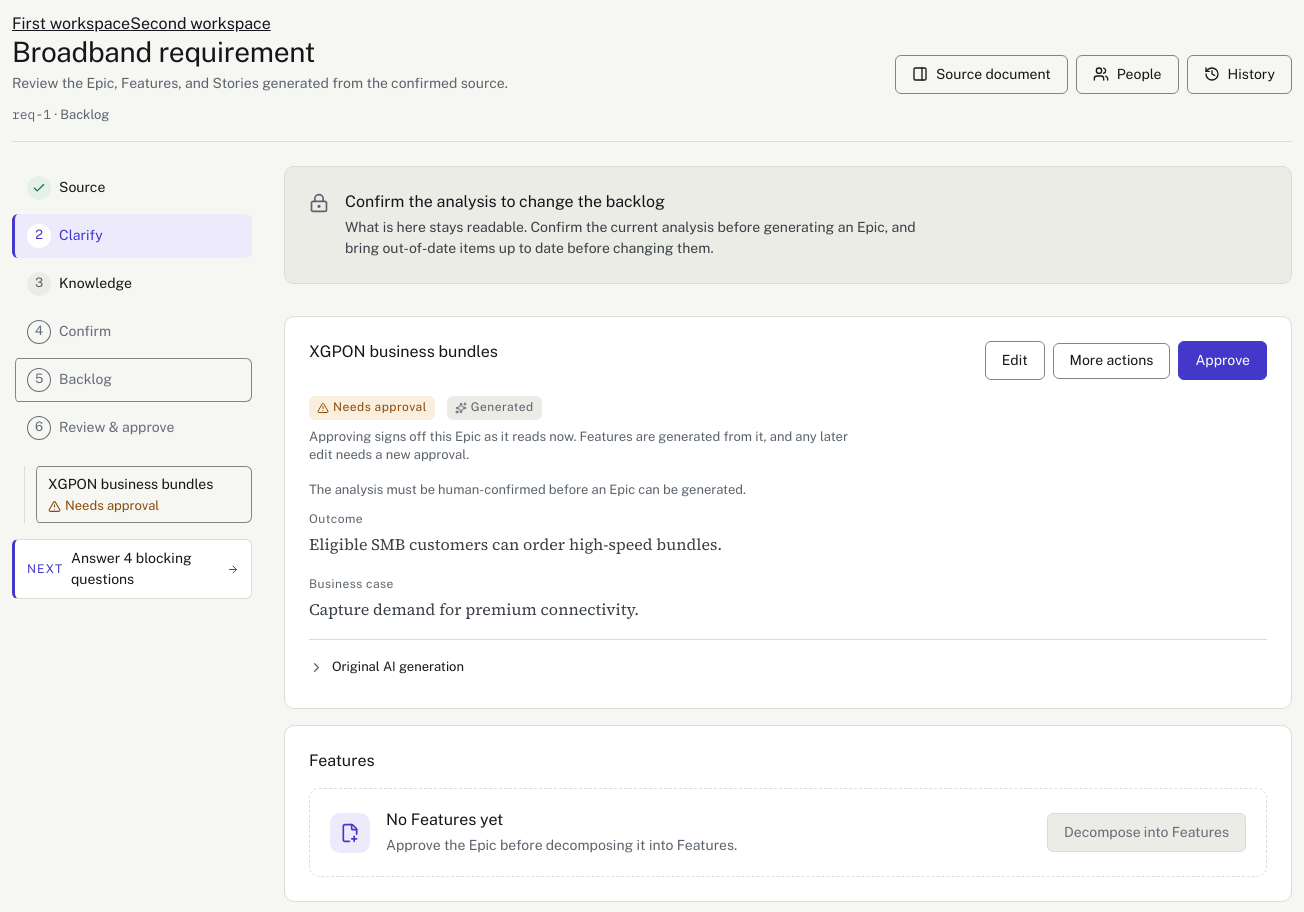
Test case: Requirement workspace reads › resets artifact drafts when changing requirements within the same app
Click the button "Edit".
click(1015, 360)  # box [985,341,1045,380]
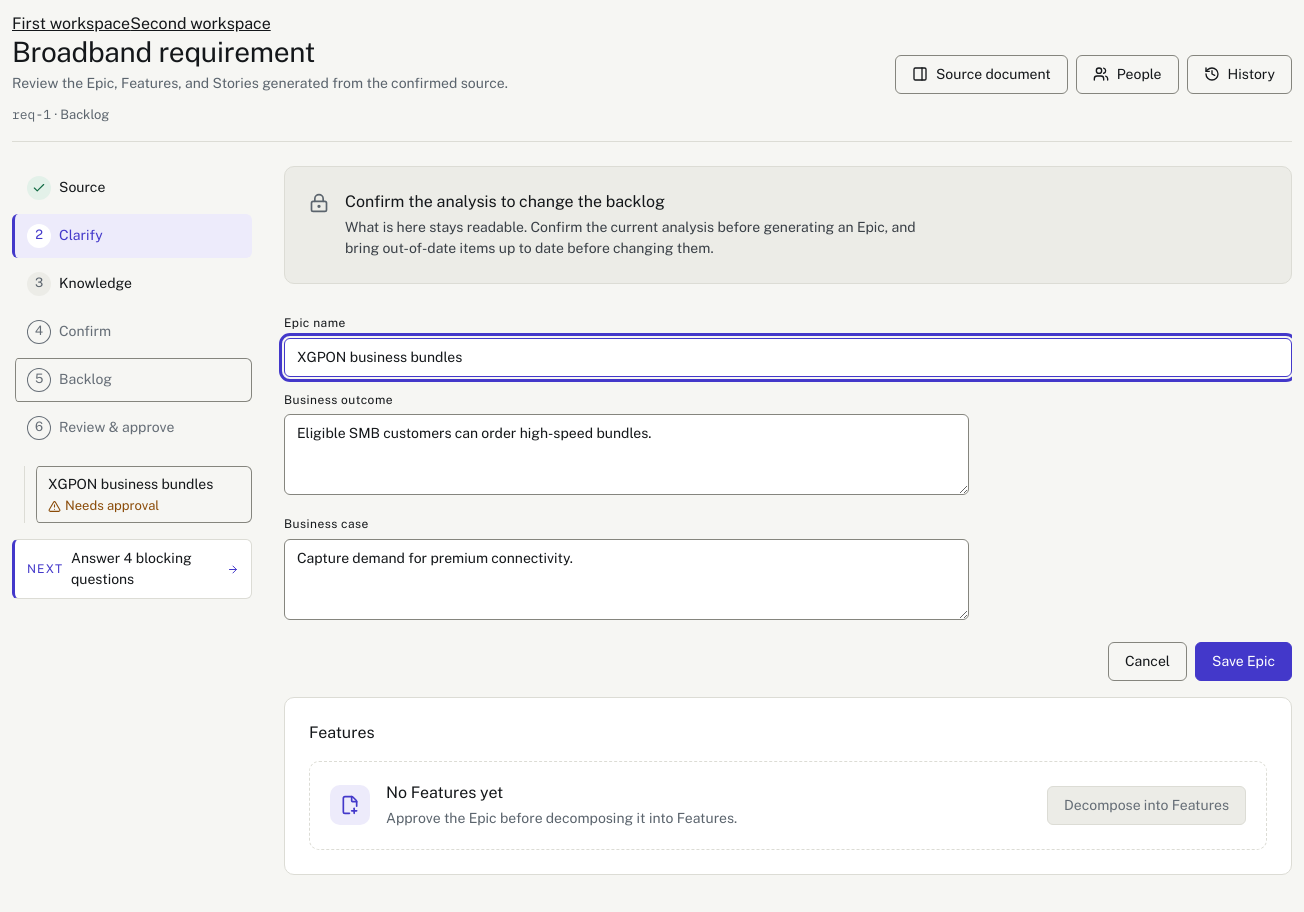
Replace the text in the field labelled "Epic name" with "Unsaved first requirement" at x=788, y=357, box [284,338,1292,377]
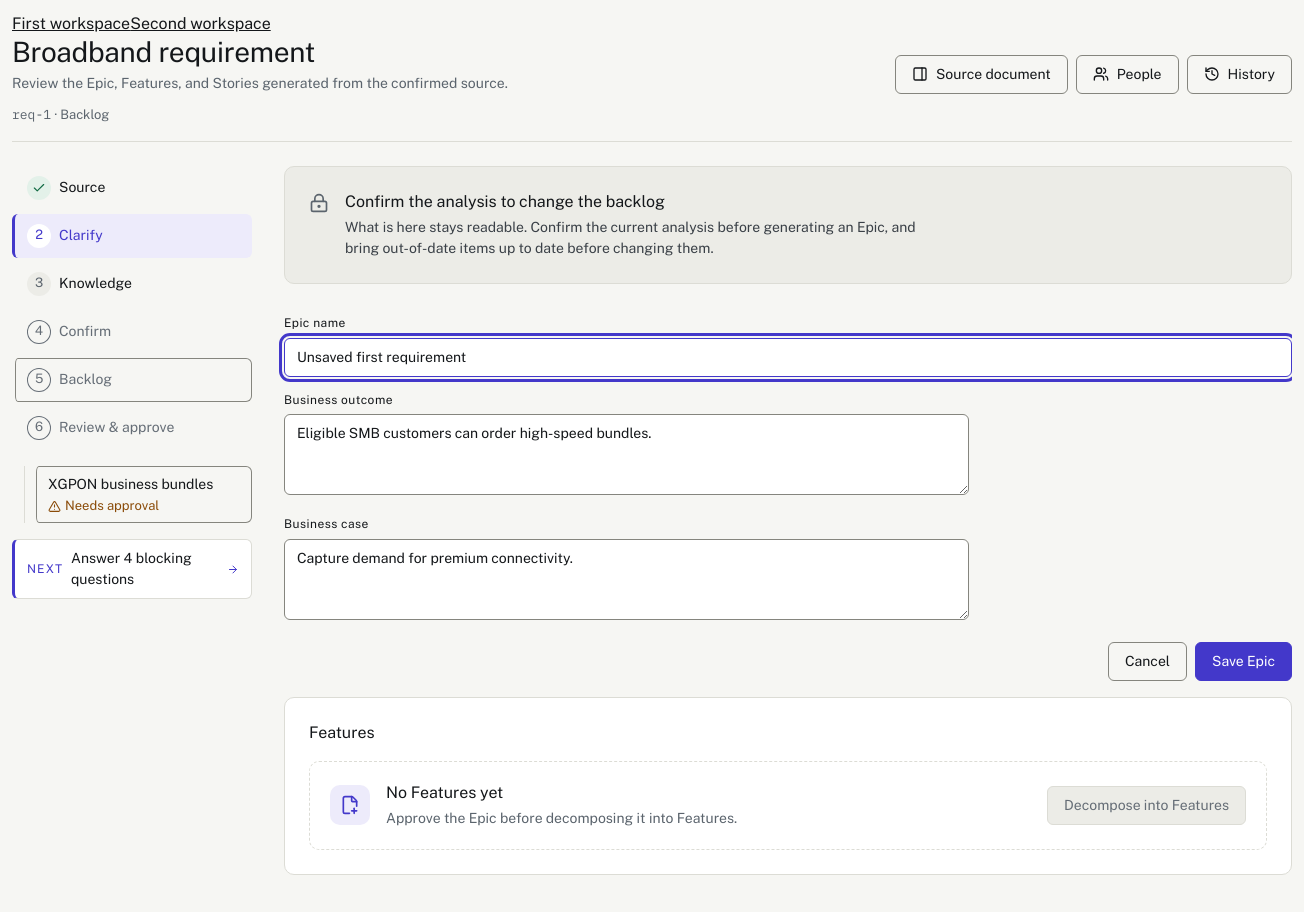
Click the link "Second workspace".
click(200, 24)  # box [130,14,271,33]
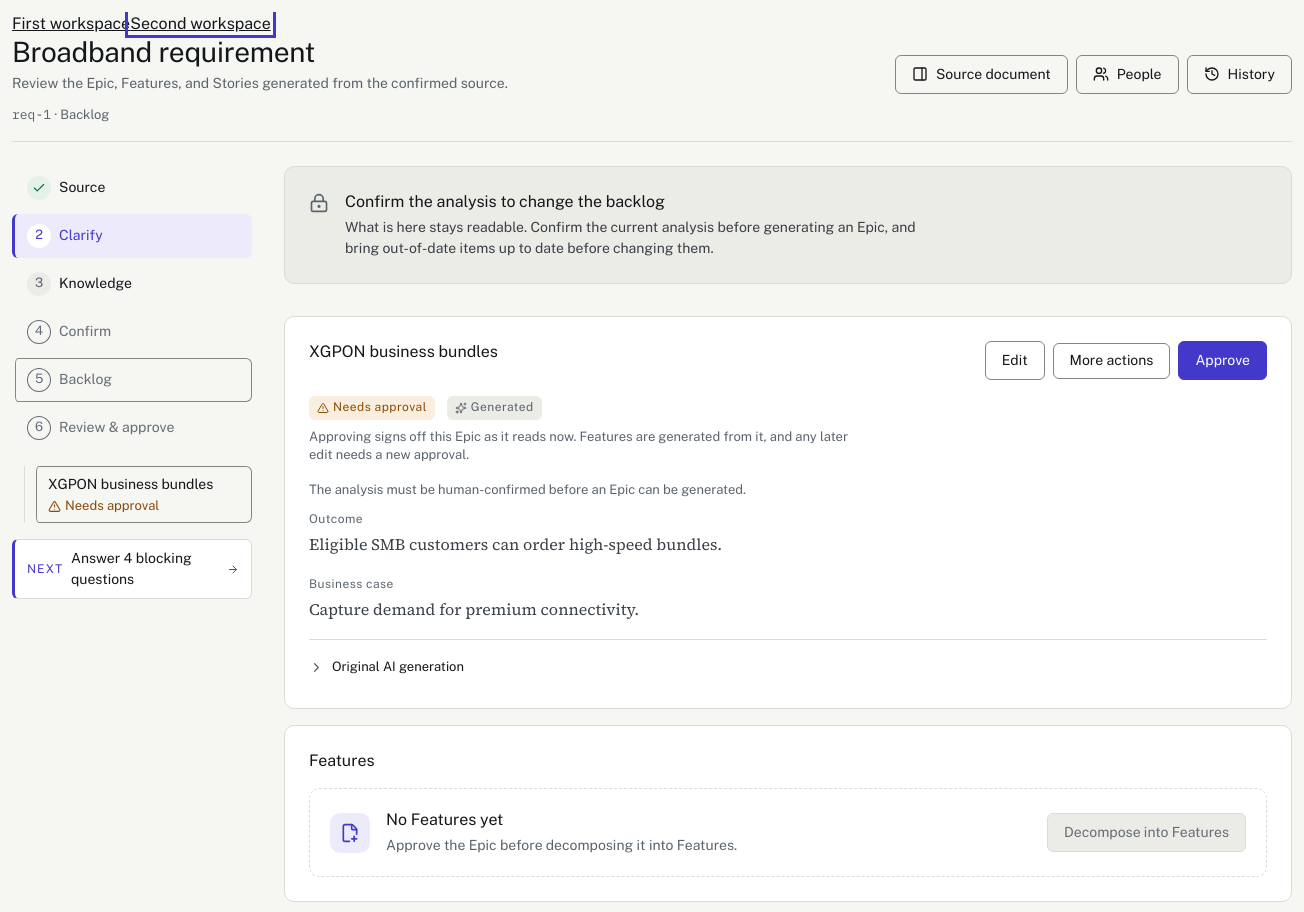
Now the heading "XGPON business bundles" is shown, box [309,341,498,363]
Now the label labelled "Epic name" is gone
Click the link "First workspace".
click(71, 24)  # box [12,14,130,33]
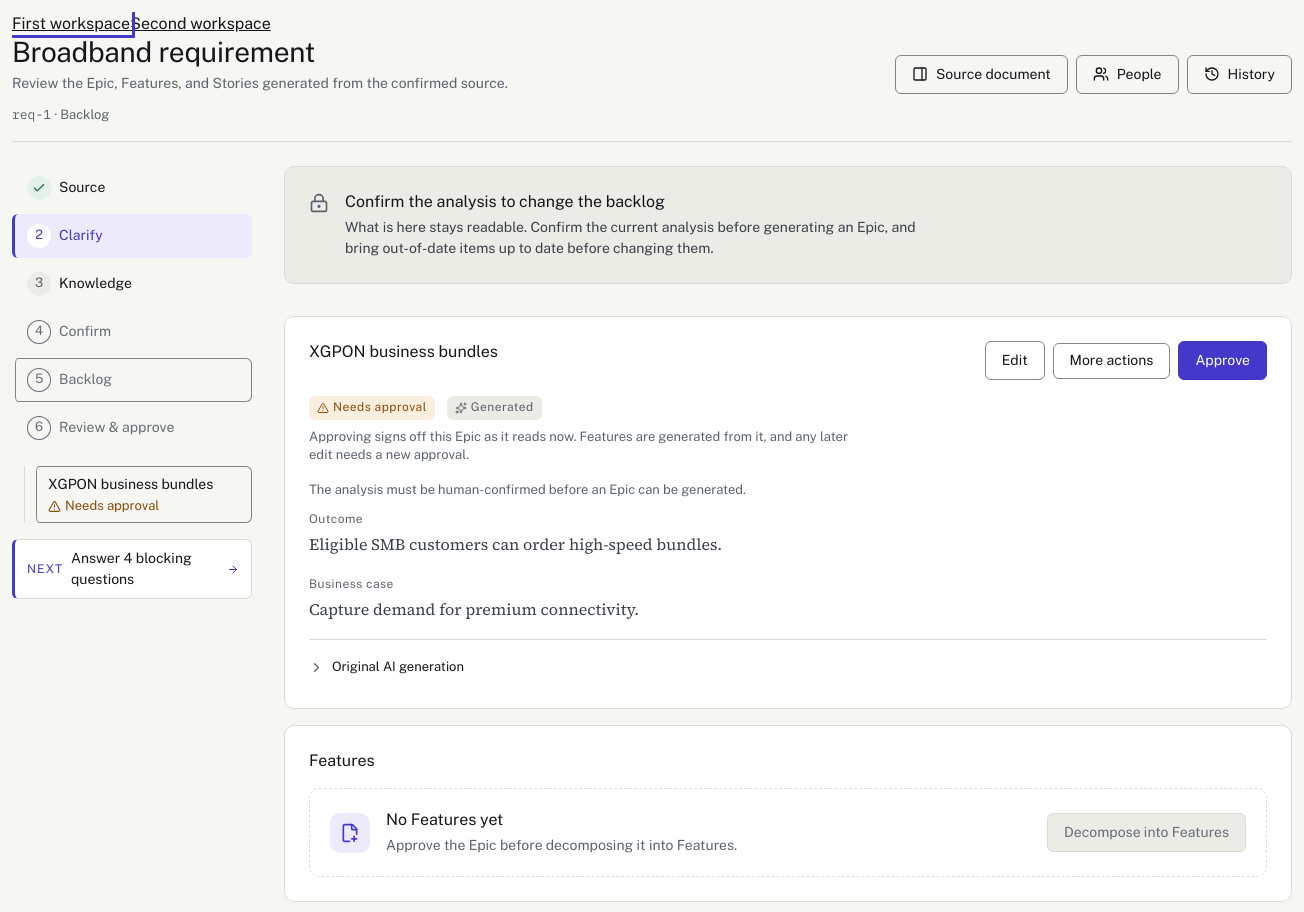
Click the button "Edit".
click(1015, 360)  # box [985,341,1045,380]
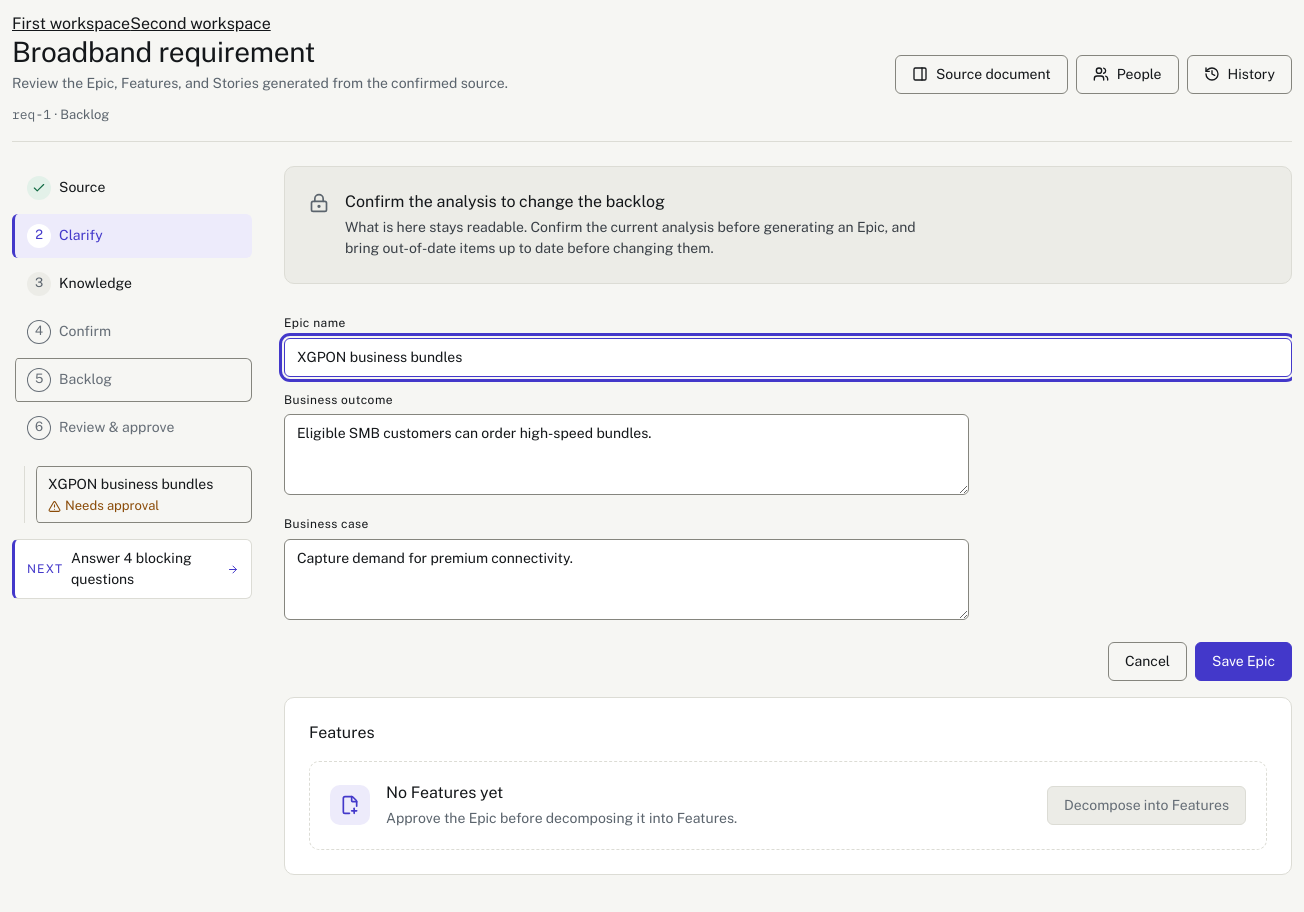
Now the field labelled "Epic name" holds "XGPON business bundles", box [284,338,1292,377]
